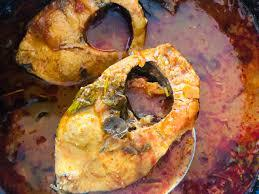Fish Curry: (11, 4, 249, 194)
